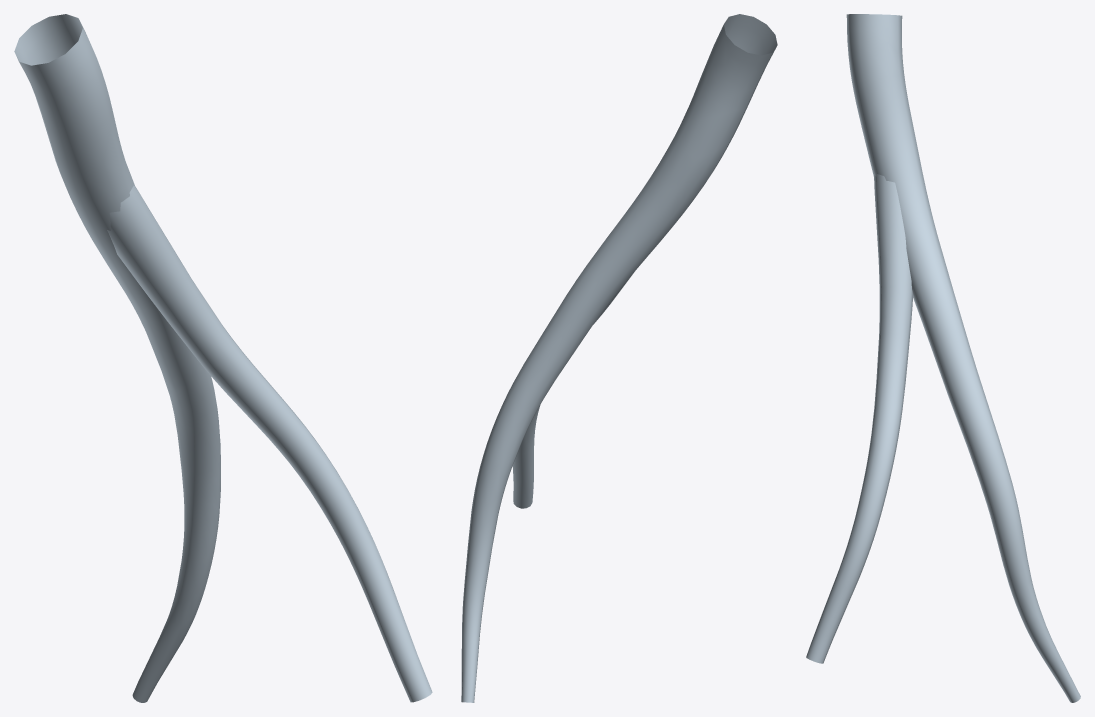
Rendered from visceras-lateral-basal-segmental-bronchus-of-left-lung-bix.glb.
3 renders of one model, left to right at view 1: azimuth 30°, elevation 25°; view 2: azimuth 150°, elevation 25°; view 3: azimuth 270°, elevation 25°, orthographic. The views are drawn at different scales.
Parts seen in each view (by area): view 1: Lateral basal segmental bronchus of left lung (BIX); view 2: Lateral basal segmental bronchus of left lung (BIX); view 3: Lateral basal segmental bronchus of left lung (BIX).
Part boxes in pixels (x1,y1,x2,y2): Lateral basal segmental bronchus of left lung (BIX): [14, 14, 432, 702]; Lateral basal segmental bronchus of left lung (BIX): [461, 14, 777, 702]; Lateral basal segmental bronchus of left lung (BIX): [806, 14, 1080, 702].
Bounding box in the file's own units: 0.0515 × 0.11 × 0.0445.
